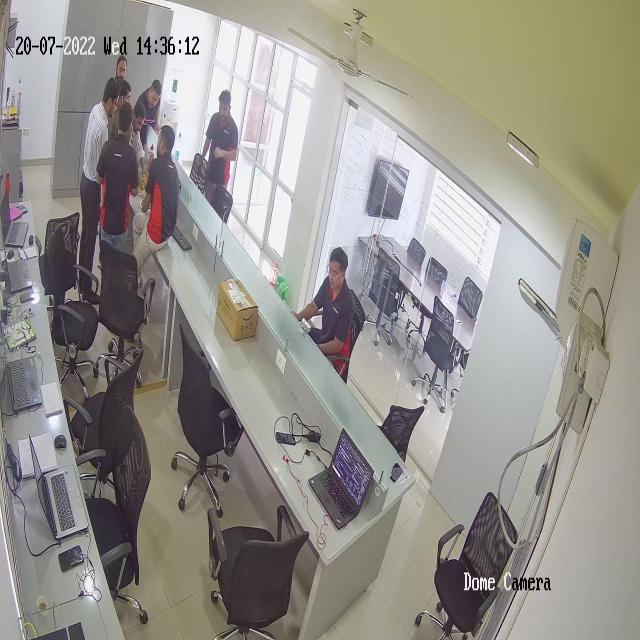chair: (411, 485, 520, 640), (200, 486, 308, 640), (79, 406, 152, 599), (169, 328, 240, 518), (61, 346, 146, 478), (93, 240, 158, 386), (44, 252, 102, 389), (415, 292, 459, 418), (36, 206, 84, 305), (362, 242, 403, 351), (378, 397, 425, 468), (456, 268, 484, 324), (426, 247, 448, 293), (403, 230, 428, 270)
keyboard: (168, 217, 195, 260)
laptop: (308, 419, 374, 534), (28, 433, 92, 548), (1, 329, 44, 412), (0, 231, 34, 293), (1, 192, 29, 252)
person: (77, 81, 116, 295), (298, 241, 358, 373), (97, 104, 143, 266), (136, 123, 182, 282), (202, 86, 242, 204), (132, 76, 164, 160), (104, 51, 134, 136)
phone: (56, 543, 88, 574), (270, 425, 298, 448), (20, 287, 39, 308), (13, 203, 31, 219)
